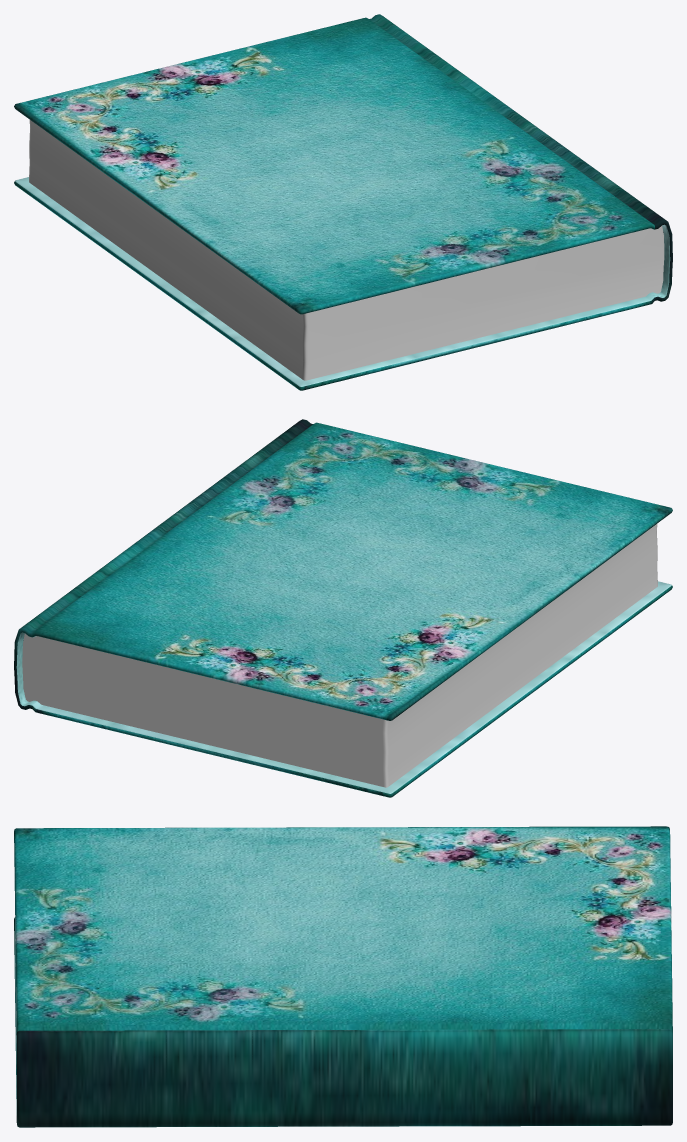
The model's file is libro.fbx.
3 renders of one model, top to bottom at view 1: azimuth 30°, elevation 25°; view 2: azimuth 150°, elevation 25°; view 3: azimuth 270°, elevation 25°, orthographic. The views are drawn at different scales.
Visible parts, largest first — view 1: Blue story book; view 2: Blue story book; view 3: Blue story book.
Part boxes in pixels (bbox=[...]): Blue story book: bbox=[14, 14, 672, 390]; Blue story book: bbox=[14, 419, 672, 797]; Blue story book: bbox=[14, 826, 672, 1127].
Bounding box in the file's own units: 17.31 × 3.55 × 22.63.
Materials: 2 (1 with a texture image).
